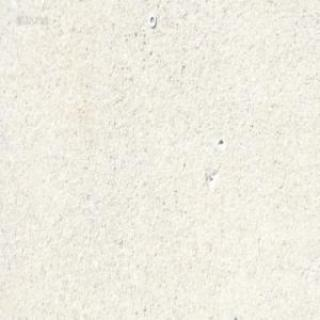Washertrack_idkeyframe: (148, 12, 156, 28)
